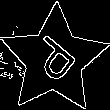P_SE: (24, 30, 84, 90)
